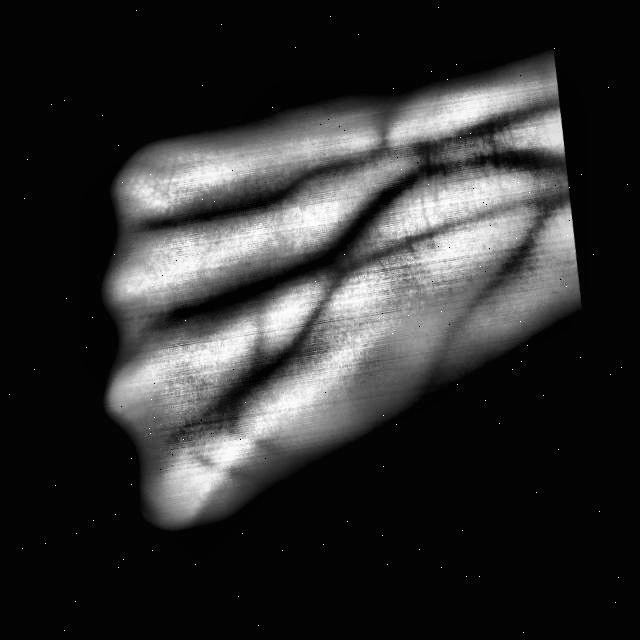Vein: (246, 169, 420, 314)
